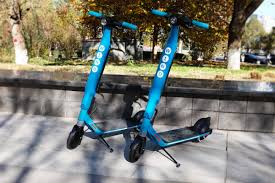kick_handler: (152, 9, 209, 30), (89, 9, 138, 29)
kick_wheel: (126, 138, 147, 161), (197, 117, 213, 140), (68, 126, 83, 150)
